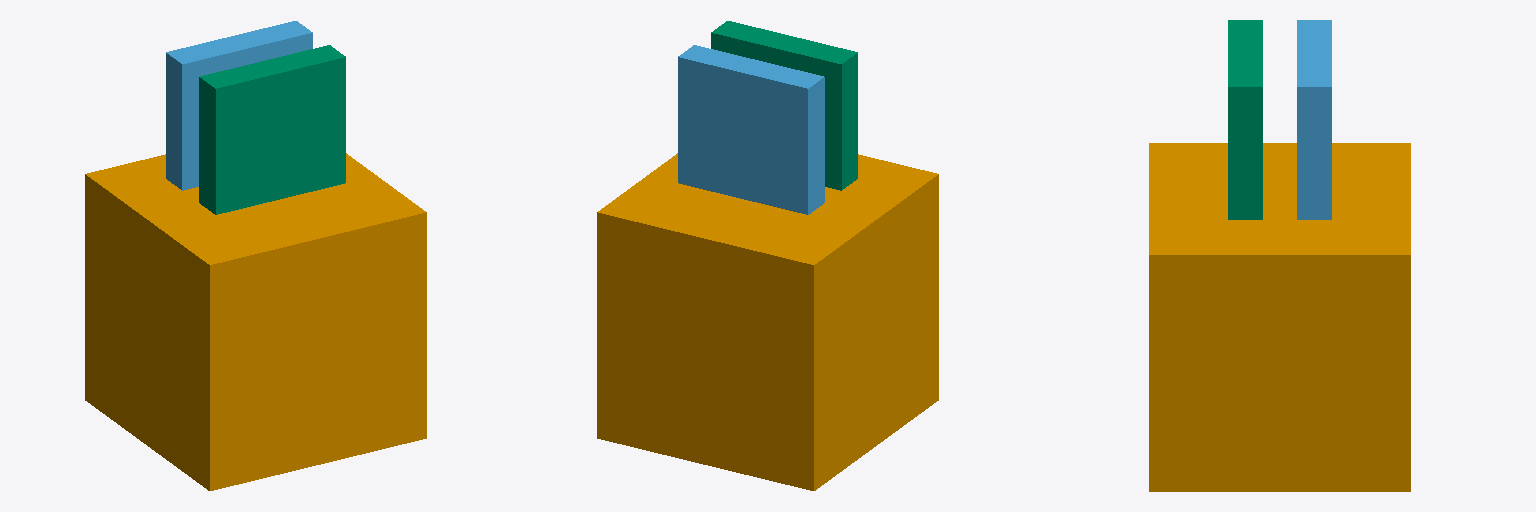
The robot description file, URDF, robot "linear_gripper":
<?xml version="1.0" ?>
<robot name="linear_gripper" xmlns:xacro="http://www.ros.org/wiki/xacro">

  <!-- Base -->
  <link name="palm">
    <visual>
      <geometry>
        <box size="0.0603 0.06 0.06"/>
      </geometry>
      <origin xyz="0 0 0" rpy="0 0 0"/>
    </visual>
    <collision>
      <geometry>
        <box size="0.0603 0.06 0.06"/>
      </geometry>
    </collision>    
  </link>

  <!-- Right finger -->
  <link name="right_finger">
    <visual>
      <geometry>
        <box size="0.03625 0.008 0.0335"/>
      </geometry>
      <origin xyz="0 0.004 0.05" rpy="0 0 0"/>
    </visual>
    <collision>
      <geometry>
        <box size="0.03625 0.008 0.0335"/>
      </geometry>
    </collision>
  </link>

  <!-- Left finger -->
  <link name="left_finger">
    <visual>
      <geometry>
        <box size="0.03625 0.008 0.0335"/>
      </geometry>
      <origin xyz="0 -0.004 0.05" rpy="0 0 0"/>
    </visual>
    <collision>
      <geometry>
        <box size="0.03625 0.008 0.0335"/>
      </geometry>
    </collision>
  </link>

<!-- Right finger prismatic joint -->
  <joint name="right_finger_joint" type="prismatic">
    <parent link="palm"/>
    <child link="right_finger"/>
    <origin xyz="0 0.004 0.0" rpy="0 0 0"/>
    <axis xyz="0 1 0"/>
    <limit lower="-0.004" upper="0.02" effort="10" velocity="0.05"/>
  </joint>

  <!--Left finger prismatic joint (mimics right finger) -->
  <joint name="left_finger_joint" type="prismatic">
    <parent link="palm"/>
    <child link="left_finger"/>
    <origin xyz="0 -0.004 0" rpy="0 0 0"/>
    <axis xyz="0 1 0"/>
    <limit lower="-0.004" upper="0.02" effort="10" velocity="0.05"/>
    <mimic joint="right_finger_joint" multiplier="-1" offset="0"/>
  </joint>
</robot>

--- What the picture shows (computed from the rendered views, not written in the file) ---
The picture shows the robot from 3 angles, left to right: view 1: azimuth 30°, elevation 25°; view 2: azimuth 150°, elevation 25°; view 3: azimuth 270°, elevation 25°; orthographic projection.
Robot: linear_gripper — 3 links, 2 joints (2 prismatic); root link palm; default pose: all joints at 0.
Links seen in each view (by area): view 1: palm, left_finger, right_finger; view 2: palm, right_finger, left_finger; view 3: palm, right_finger, left_finger.
Link boxes in pixels (<box>): palm: <box>85,153,426,490</box>; left_finger: <box>199,45,345,214</box>; right_finger: <box>166,21,312,190</box>; palm: <box>597,153,938,490</box>; right_finger: <box>678,45,824,214</box>; left_finger: <box>711,21,857,190</box>; palm: <box>1149,143,1410,491</box>; right_finger: <box>1297,20,1331,219</box>; left_finger: <box>1228,20,1262,219</box>.
Bounding box of the posed robot: 0.0603 × 0.06 × 0.0967 m (x, y, z).
Geometry: primitives only (box / cylinder / sphere), no mesh files.